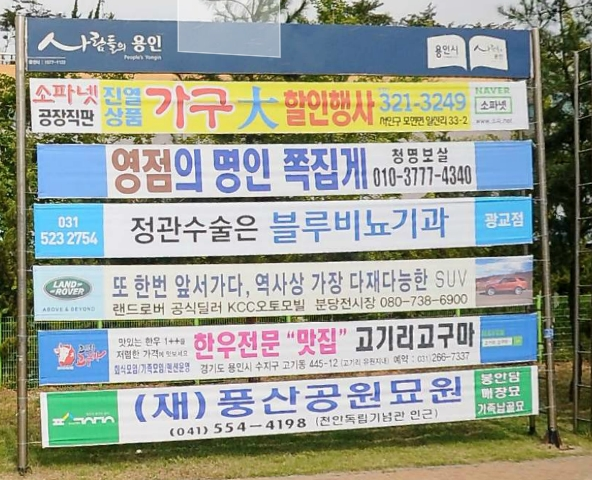banner: (35, 360, 547, 451), (30, 309, 547, 392), (29, 250, 541, 328), (30, 196, 548, 267), (27, 72, 533, 132), (33, 138, 544, 196)
